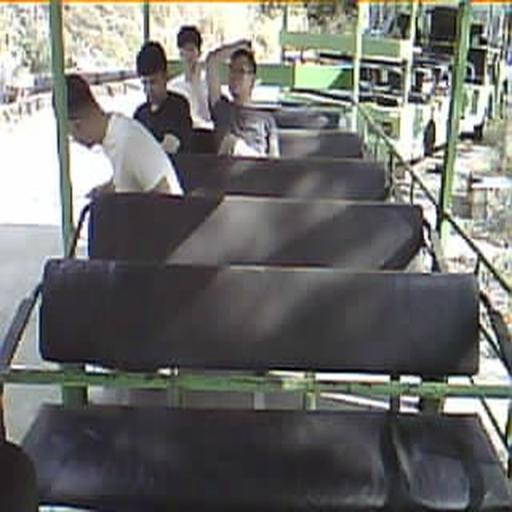persona: (51, 72, 185, 200), (168, 24, 252, 133), (215, 48, 281, 158), (132, 40, 194, 154)
